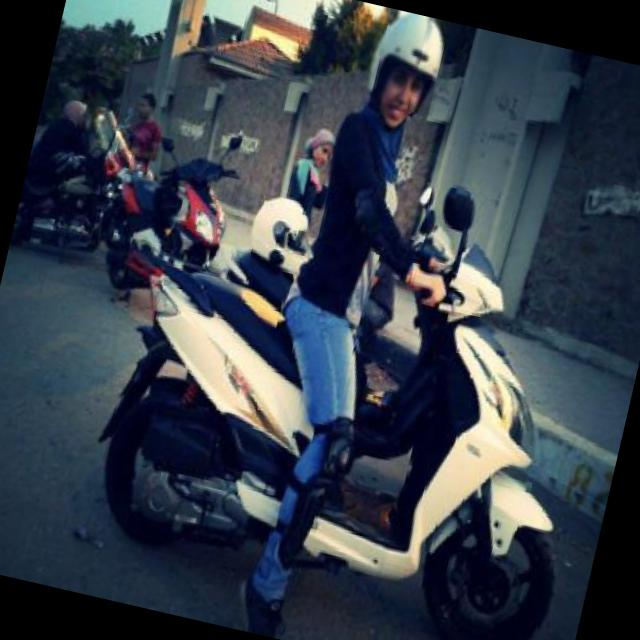With Helmet: (352, 4, 452, 118)
